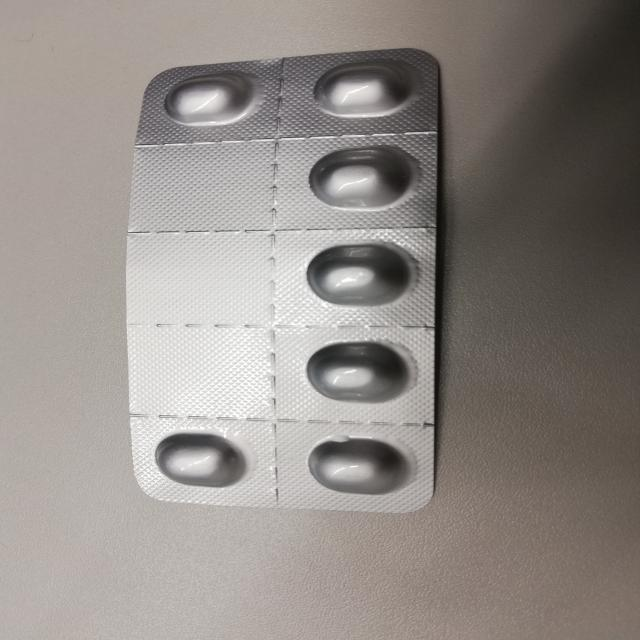Pill: (287, 342, 420, 411), (143, 425, 259, 499), (286, 242, 420, 306), (291, 143, 409, 211), (298, 435, 411, 503), (307, 59, 415, 122), (150, 74, 265, 125)
